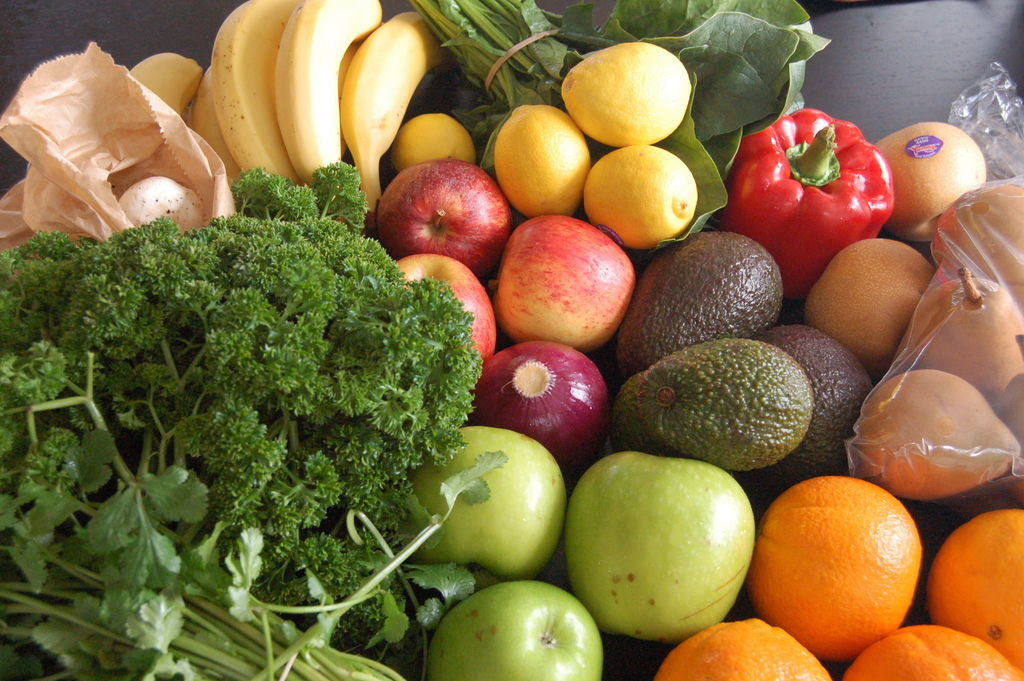Apple: (577, 444, 768, 647), (412, 422, 572, 576), (488, 212, 634, 354), (430, 579, 606, 680), (374, 160, 514, 280), (394, 255, 494, 366)
